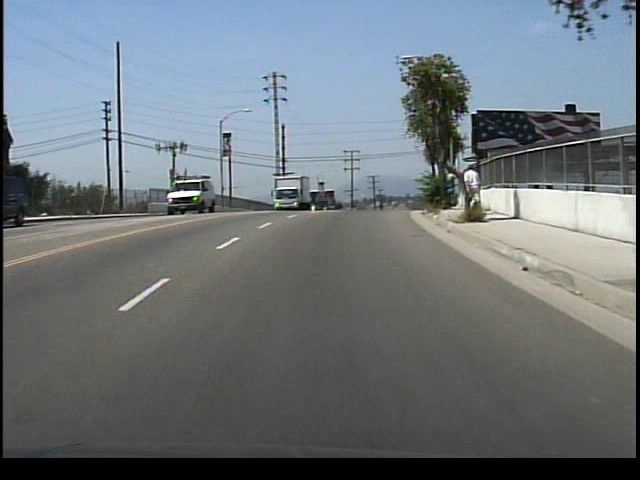person: (459, 162, 485, 221)
